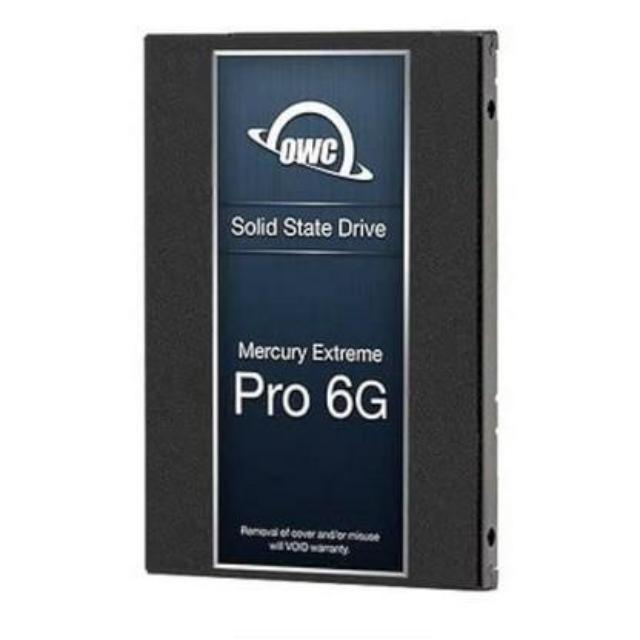DISK: (113, 26, 522, 600)
